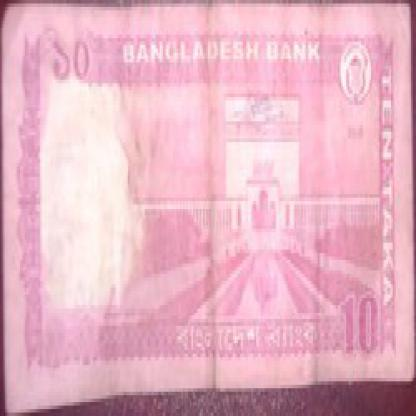Ten Taka: (43, 24, 118, 108), (315, 284, 381, 361)
